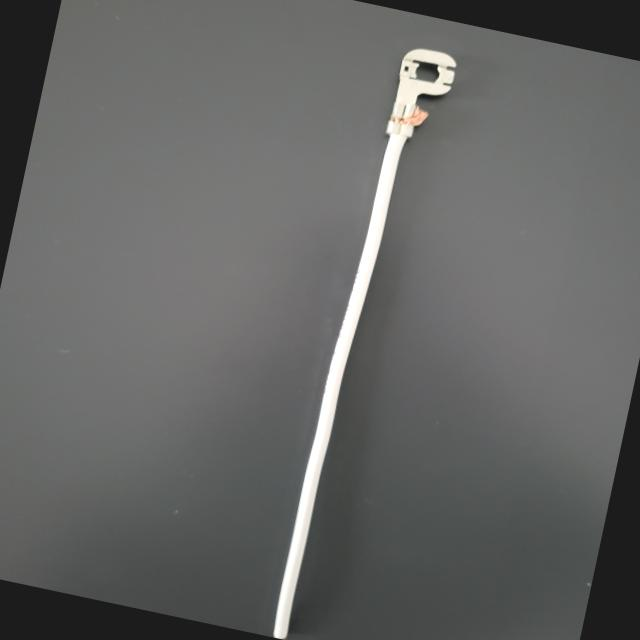defect: (350, 88, 463, 161)
